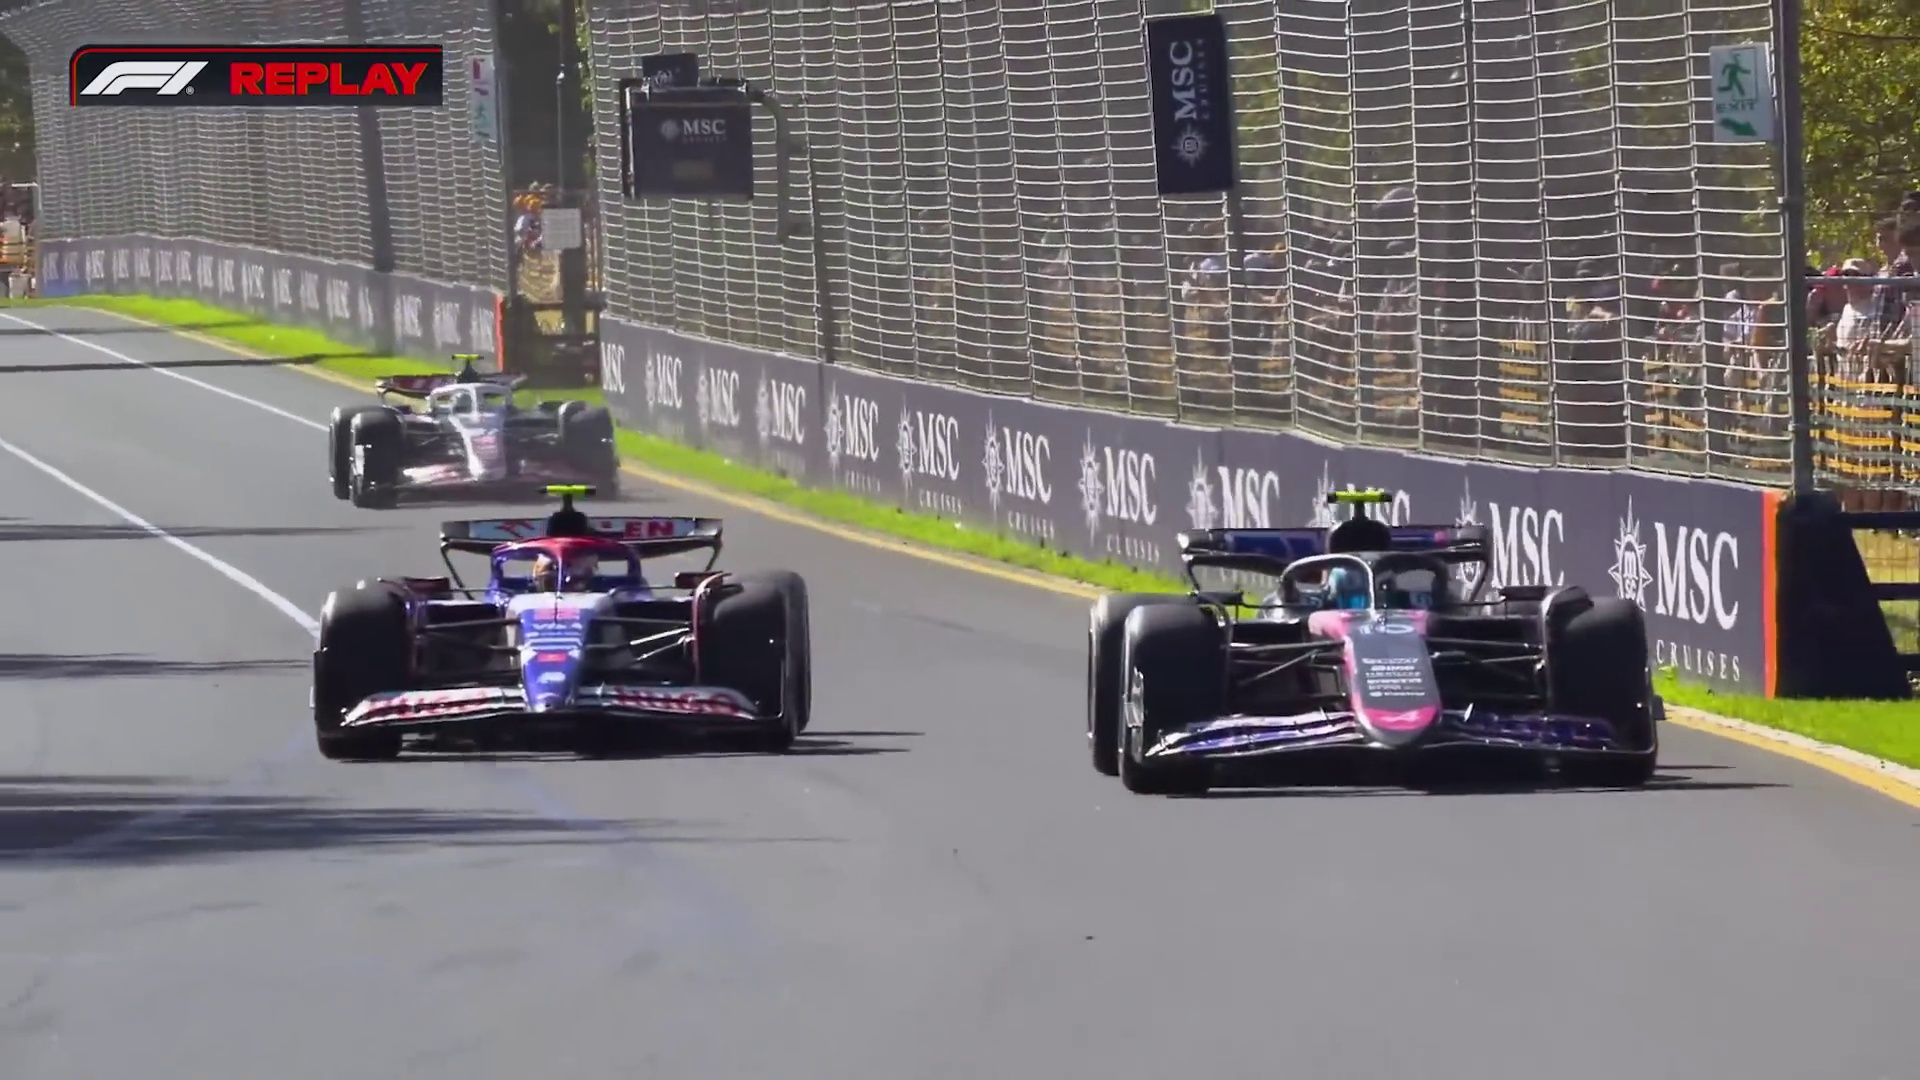Alpine: (1095, 527, 1654, 779)
Haas: (328, 381, 621, 493)
VisaRB: (319, 513, 804, 746)
